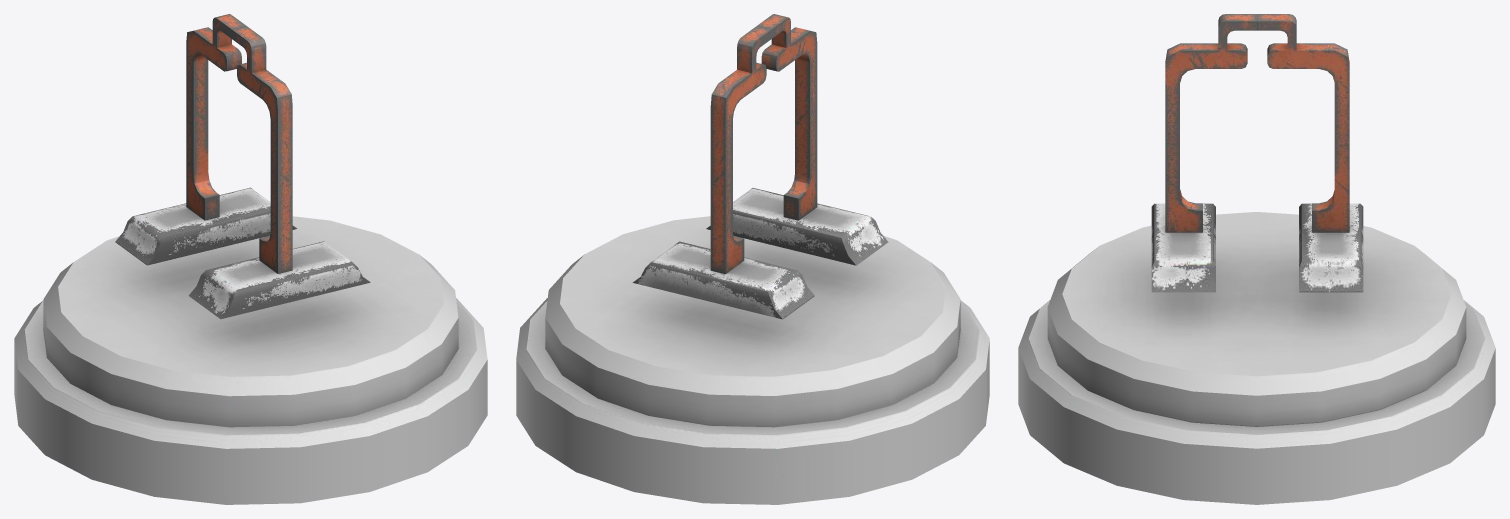
File: TPPRTA.fbx
3 renders of one model, left to right at view 1: azimuth 30°, elevation 25°; view 2: azimuth 150°, elevation 25°; view 3: azimuth 270°, elevation 25°, orthographic.
Visible parts, largest first — view 1: polySurface73, polySurface70; view 2: polySurface73, polySurface70; view 3: polySurface73, polySurface70.
Part boxes in pixels (x1,y1,x2,y2): polySurface73: (14,216,487,504); polySurface70: (115,14,370,319); polySurface73: (516,216,989,504); polySurface70: (632,14,888,319); polySurface73: (1018,212,1495,504); polySurface70: (1151,14,1363,292).
Bounding box in the file's own units: 0.4773 × 0.4202 × 0.4773.
Materials: 1 (1 with a texture image).
